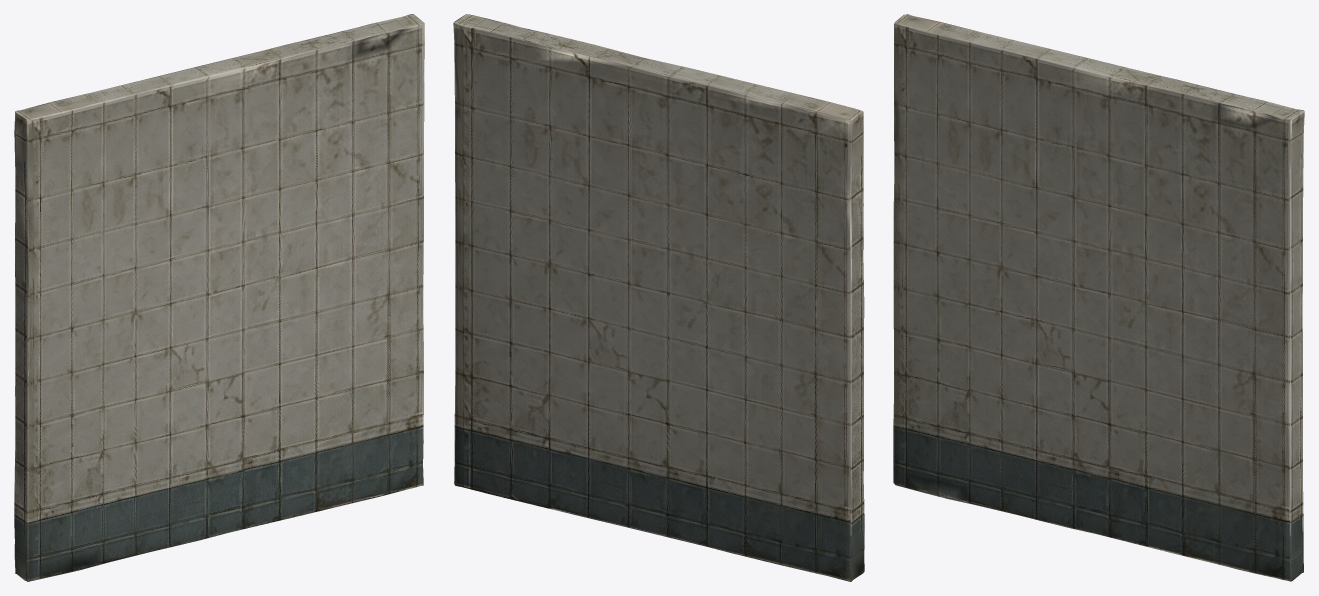
The model's file is wall_tile.fbx.
The picture shows the model from 3 angles, left to right: view 1: azimuth 30°, elevation 25°; view 2: azimuth 150°, elevation 25°; view 3: azimuth 330°, elevation 25°; orthographic projection.
Parts seen in each view (by area): view 1: mesh_node; view 2: mesh_node; view 3: mesh_node.
Part boxes in pixels (left/top/right/bottom): mesh_node: left=14, top=14, right=424, bottom=581; mesh_node: left=453, top=14, right=864, bottom=581; mesh_node: left=893, top=14, right=1304, bottom=581.
Size of the model in its own units: 90.43 by 100 by 5.47.
Materials: 1 (1 with a texture image).
